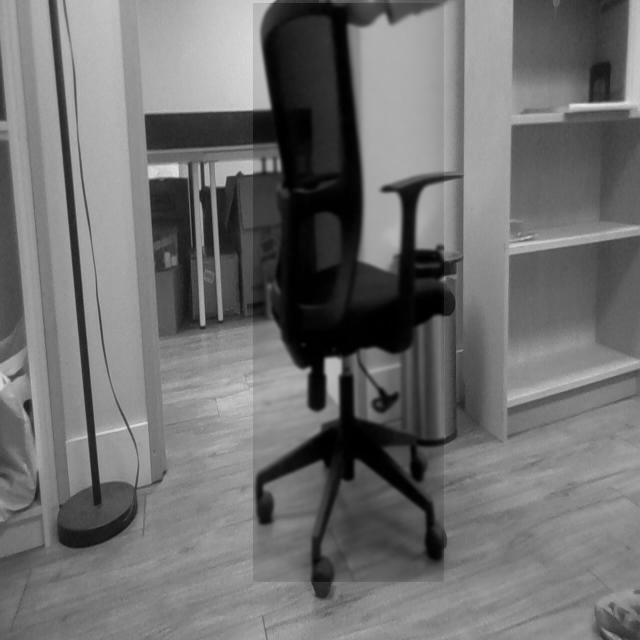chair: (253, 3, 445, 583)
